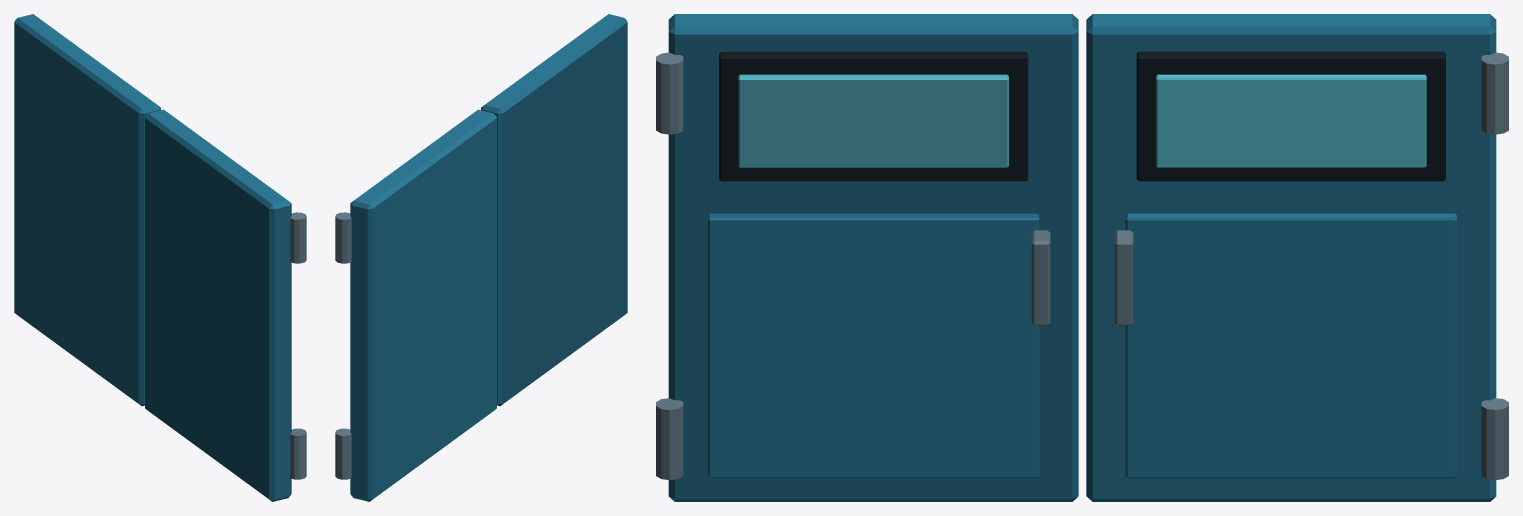
Rendered from EC_ServiceDoors.fbx.
3 views of the same model, side by side, from view 1: azimuth 30°, elevation 25°; view 2: azimuth 150°, elevation 25°; view 3: azimuth 270°, elevation 25° (orthographic). The views are drawn at different scales.
Visible parts, largest first — view 1: EC_ServiceDoors; view 2: EC_ServiceDoors; view 3: EC_ServiceDoors.
Boxes of the visible parts, left/top/right/bottom form: EC_ServiceDoors: left=14, top=14, right=306, bottom=501; EC_ServiceDoors: left=335, top=14, right=627, bottom=501; EC_ServiceDoors: left=656, top=14, right=1508, bottom=501.
Size of the model in its own units: 0.158 by 0.95 by 1.54.
